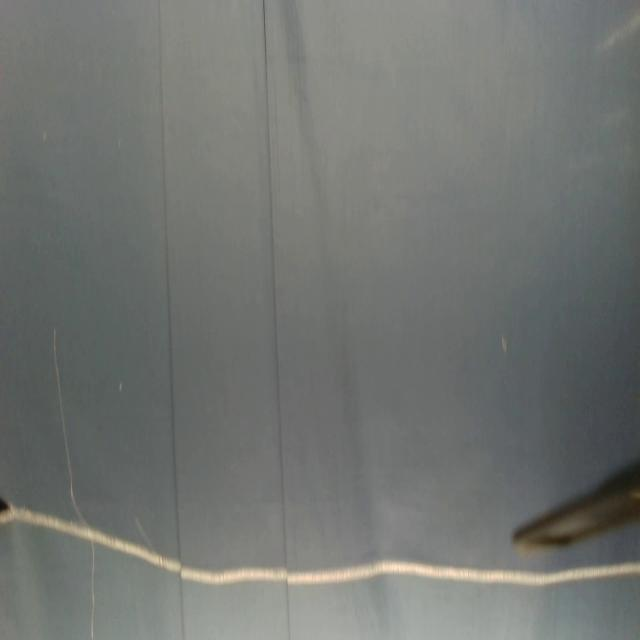crease: (259, 0, 293, 639), (157, 0, 186, 640)
hole: (0, 499, 12, 519), (502, 336, 508, 356), (118, 382, 124, 394)
